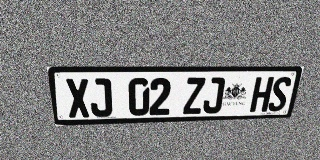0: (128, 78, 150, 116)
2: (149, 78, 171, 115)
H: (249, 77, 274, 112)
J: (89, 78, 112, 117), (202, 77, 225, 114)
S: (267, 77, 292, 111)
X: (65, 78, 91, 118)
Z: (183, 77, 205, 114)
